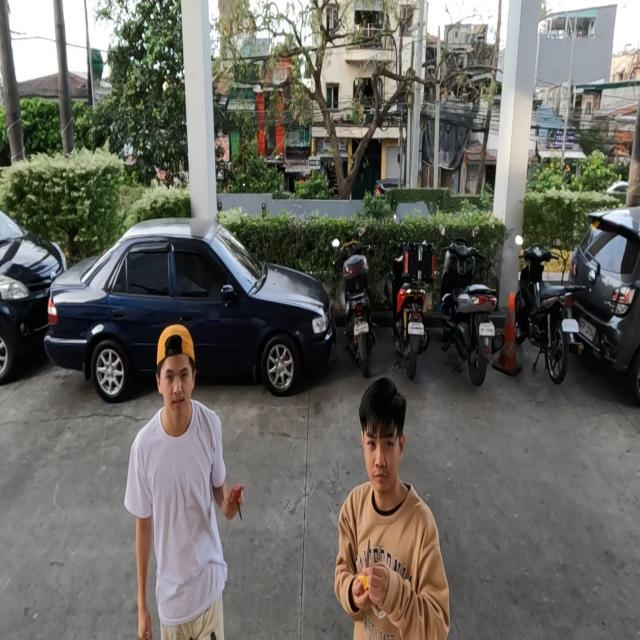scissor: (358, 539, 372, 594), (229, 483, 243, 522)
